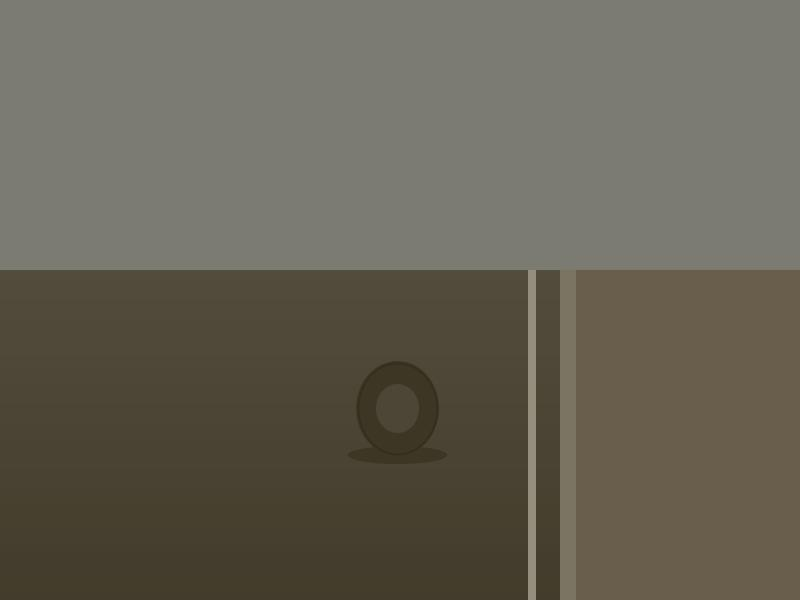ROAD_OBSTACLE: (356, 361, 439, 456)
